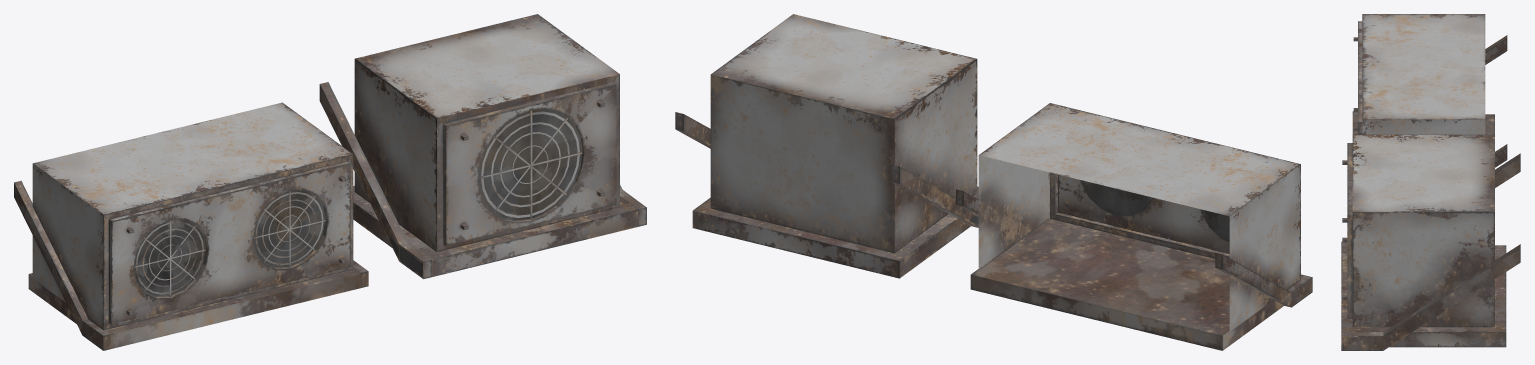
File: ventilation.gltf
3 renders of one model, left to right at view 1: azimuth 30°, elevation 25°; view 2: azimuth 150°, elevation 25°; view 3: azimuth 270°, elevation 25°, orthographic. The views are drawn at different scales.
Parts seen in each view (by area): view 1: air con, air con.001; view 2: air con, air con.001; view 3: air con.001, air con.
Part boxes in pixels (bbox=[...]): air con: bbox=[14, 102, 368, 350]; air con.001: bbox=[319, 14, 646, 279]; air con: bbox=[956, 103, 1312, 350]; air con.001: bbox=[675, 14, 978, 278]; air con.001: bbox=[1341, 134, 1520, 350]; air con: bbox=[1352, 14, 1507, 167].
Bounding box in the file's own units: 0.9475 × 0.2542 × 0.3169.
Materials: 1 (1 with a texture image).
